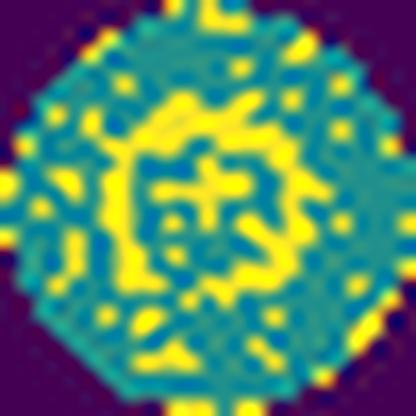Donut: (84, 74, 347, 315)
